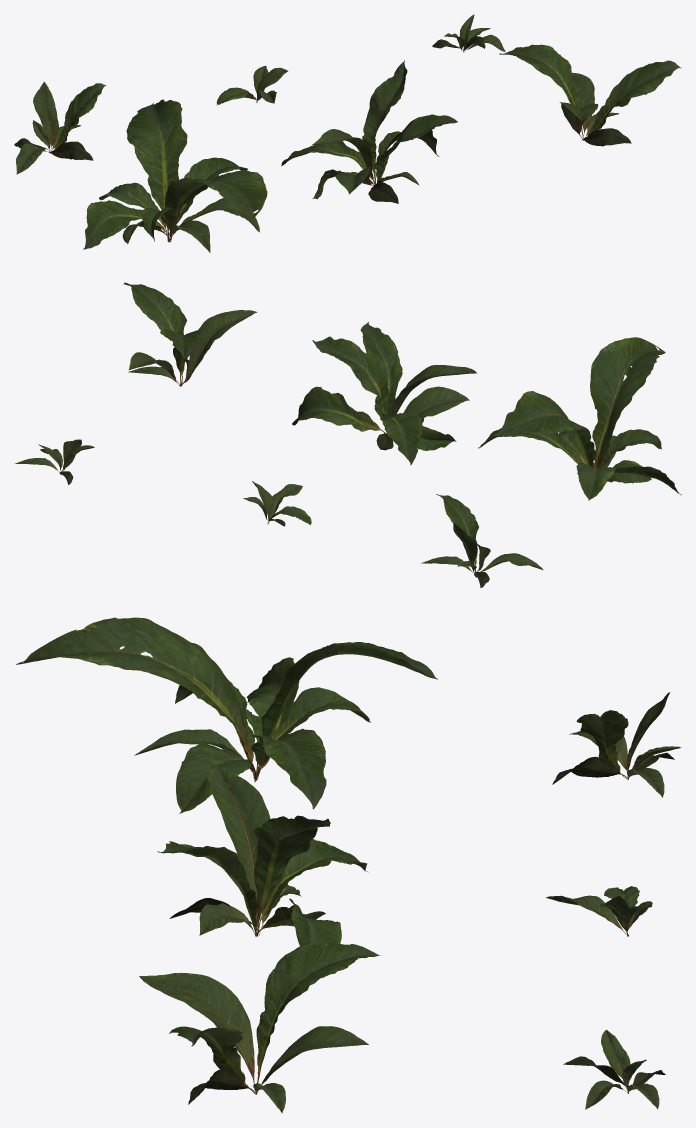
Rendered from anthurium.glb.
3 renders of one model, top to bottom at view 1: azimuth 30°, elevation 25°; view 2: azimuth 150°, elevation 25°; view 3: azimuth 270°, elevation 25°, orthographic. The views are drawn at different scales.
Visible parts, largest first — view 1: anthurium_botany_01_a, anthurium_botany_01_b, anthurium_botany_01_c, anthurium_botany_04_d, anthurium_botany_05_e, anthurium_botany_06_f; view 2: anthurium_botany_01_a, anthurium_botany_01_b, anthurium_botany_01_c, anthurium_botany_04_d, anthurium_botany_05_e, anthurium_botany_06_f; view 3: anthurium_botany_01_a, anthurium_botany_01_b, anthurium_botany_01_c, anthurium_botany_04_d, anthurium_botany_06_f, anthurium_botany_05_e.
Part boxes in pixels (left/top/right/bottom): anthurium_botany_01_a: left=83, top=99, right=267, bottom=252; anthurium_botany_01_b: left=281, top=60, right=457, bottom=203; anthurium_botany_01_c: left=499, top=44, right=681, bottom=146; anthurium_botany_04_d: left=14, top=81, right=106, bottom=174; anthurium_botany_05_e: left=216, top=66, right=288, bottom=105; anthurium_botany_06_f: left=432, top=14, right=505, bottom=52; anthurium_botany_01_a: left=478, top=337, right=681, bottom=500; anthurium_botany_01_b: left=292, top=321, right=476, bottom=465; anthurium_botany_01_c: left=123, top=282, right=257, bottom=386; anthurium_botany_04_d: left=421, top=494, right=543, bottom=587; anthurium_botany_05_e: left=243, top=481, right=311, bottom=526; anthurium_botany_06_f: left=15, top=439, right=94, bottom=484; anthurium_botany_01_a: left=16, top=617, right=437, bottom=813; anthurium_botany_01_b: left=157, top=763, right=368, bottom=985; anthurium_botany_01_c: left=139, top=941, right=381, bottom=1112; anthurium_botany_04_d: left=552, top=692, right=680, bottom=797; anthurium_botany_06_f: left=563, top=1029, right=665, bottom=1109; anthurium_botany_05_e: left=546, top=886, right=652, bottom=936.
Bounding box in the file's own units: 2.8 × 0.4996 × 1.8.
Materials: 1 (1 with a texture image).
